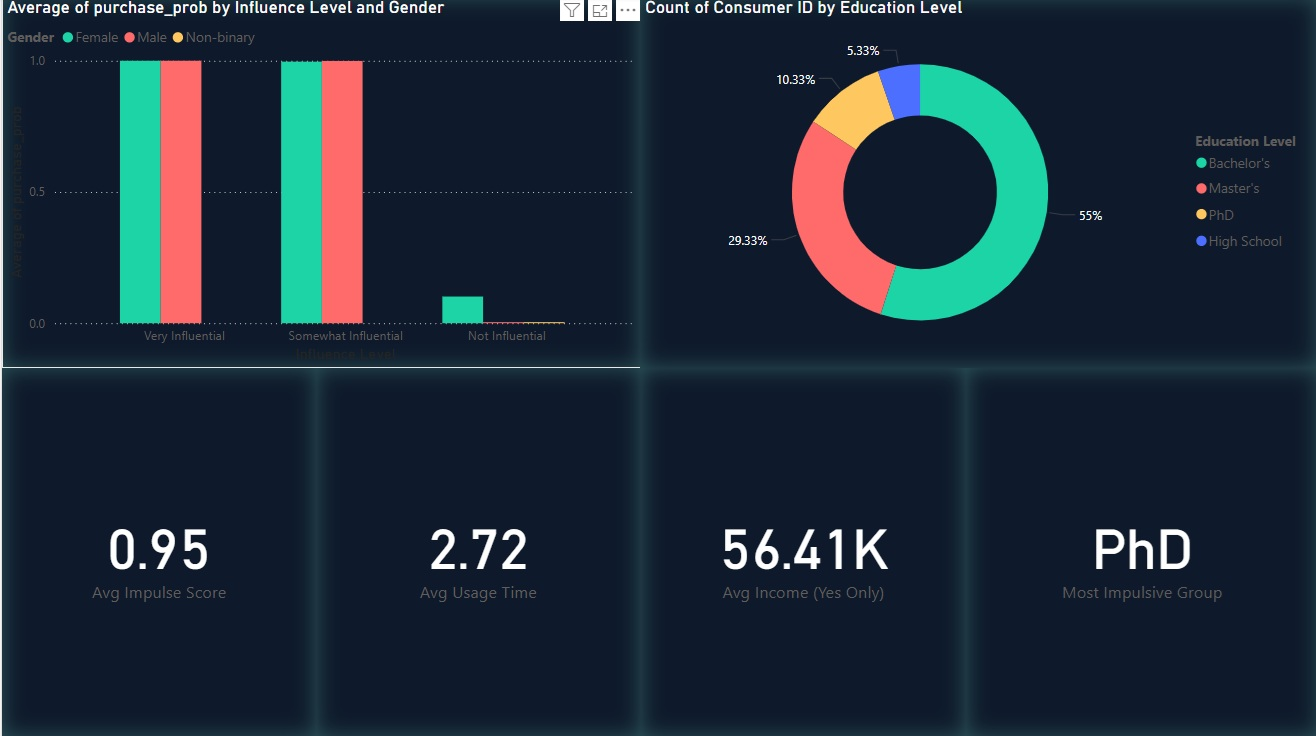

Layout of this report page (visuals, bound fields, positions):
{"tool":"powerbi","page":{"name":"Behavioral DNA","canvas":[1280,720],"ordinal":3},"visuals":[{"type":"clusteredColumnChart","fields":{"Category":["Row_Level.Influence Level"],"Y":["Avg(Row_Level.purchase_prob)"],"Series":["Row_Level.Gender"]},"box":[0,0,621.5,360.6],"z":0},{"type":"donutChart","fields":{"Y":["Count(Row_Level.Consumer ID)"],"Category":["Row_Level.Education Level"]},"box":[620.7,0,658.8,360.9],"z":1000},{"type":"card","fields":{"Values":["City_Summary.Avg Impulse Score"]},"box":[0,360.6,305.6,359.3],"z":2000},{"type":"card","fields":{"Values":["City_Summary.Avg Usage Time"]},"box":[305.6,360.6,315.8,359.3],"z":3000},{"type":"card","fields":{"Values":["City_Summary.Avg Income (Yes Only)"]},"box":[621.5,360.6,315.8,359.3],"z":4000},{"type":"card","fields":{"Values":["City_Summary.Most Impulsive Group"]},"box":[937.3,360.6,342.7,359.3],"z":5000}]}

Visuals, with their boxes in screenshot pixels (x1, y1, x2, y2), scaled from the page's 1280x720 canvas onto the 1316x736 screenshot:
clusteredColumnChart - Row_Level.Influence Level x Avg(Row_Level.purchase_prob): locate(0, 0, 639, 369)
donutChart - Count(Row_Level.Consumer ID) x Row_Level.Education Level: locate(638, 0, 1315, 369)
card - City_Summary.Avg Impulse Score: locate(0, 369, 314, 735)
card - City_Summary.Avg Usage Time: locate(314, 369, 639, 735)
card - City_Summary.Avg Income (Yes Only): locate(639, 369, 964, 735)
card - City_Summary.Most Impulsive Group: locate(964, 369, 1315, 735)
